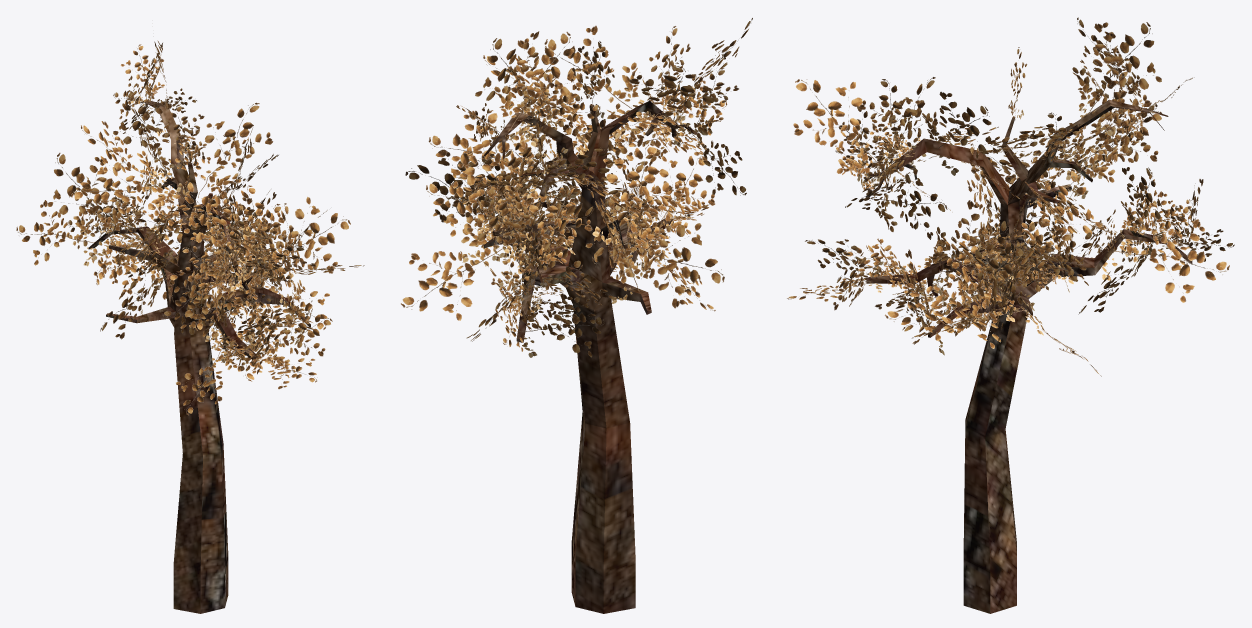
The model's file is New Tree.fbx.
3 views of the same model, side by side, from view 1: azimuth 30°, elevation 25°; view 2: azimuth 150°, elevation 25°; view 3: azimuth 270°, elevation 25° (orthographic). The views are drawn at different scales.
Parts seen in each view (by area): view 1: Cube, Tree Branch.091, Tree Branch.045, Tree Branch.056, Tree Branch.011, Tree Branch.100, Tree Branch.015, Tree Branch.005, Tree Branch.013, Tree Branch.042, Tree Branch.006, Tree Branch.097 (+21 smaller); view 2: Cube, Tree Branch.047, Tree Branch.088, Tree Branch.072, Tree Branch.036, Tree Branch.003, Tree Branch.044, Tree Branch.084, Tree Branch.015, Tree Branch.017, Tree Branch.032, Tree Branch.055 (+29 smaller); view 3: Cube, Tree Branch.024, Tree Branch.032, Tree Branch.059, Tree Branch.010, Tree Branch.068, Tree Branch.003, Tree Branch.086, Tree Branch.041, Tree Branch.071, Tree Branch.065, Tree Branch.100 (+17 smaller).
Part boxes in pixels (<box>): Cube: <box>88,100,310,613</box>; Tree Branch.091: <box>47,152,127,260</box>; Tree Branch.045: <box>176,102,273,197</box>; Tree Branch.056: <box>246,196,350,287</box>; Tree Branch.011: <box>71,160,173,224</box>; Tree Branch.100: <box>184,181,254,291</box>; Tree Branch.015: <box>16,200,95,266</box>; Tree Branch.005: <box>113,90,184,189</box>; Tree Branch.013: <box>248,305,332,369</box>; Tree Branch.042: <box>162,263,243,323</box>; Tree Branch.006: <box>81,121,160,207</box>; Tree Branch.097: <box>176,335,237,415</box>; Cube: <box>483,101,696,613</box>; Tree Branch.047: <box>608,204,724,308</box>; Tree Branch.088: <box>592,143,682,245</box>; Tree Branch.072: <box>400,228,522,320</box>; Tree Branch.036: <box>494,31,582,146</box>; Tree Branch.003: <box>544,25,638,138</box>; Tree Branch.044: <box>428,110,537,198</box>; Tree Branch.084: <box>426,163,531,250</box>; Tree Branch.015: <box>518,293,604,357</box>; Tree Branch.017: <box>466,186,545,286</box>; Tree Branch.032: <box>475,31,555,139</box>; Tree Branch.055: <box>585,195,660,303</box>; Cube: <box>864,99,1192,613</box>; Tree Branch.024: <box>793,79,907,174</box>; Tree Branch.032: <box>1072,22,1161,135</box>; Tree Branch.059: <box>1102,217,1229,302</box>; Tree Branch.010: <box>1059,99,1162,182</box>; Tree Branch.068: <box>939,235,1024,331</box>; Tree Branch.003: <box>922,91,997,175</box>; Tree Branch.086: <box>1021,169,1102,284</box>; Tree Branch.041: <box>866,168,947,239</box>; Tree Branch.071: <box>940,286,1043,348</box>; Tree Branch.065: <box>884,275,1014,341</box>; Tree Branch.100: <box>857,77,937,188</box>.
Size of the model in its own units: 279 by 529 by 367.
